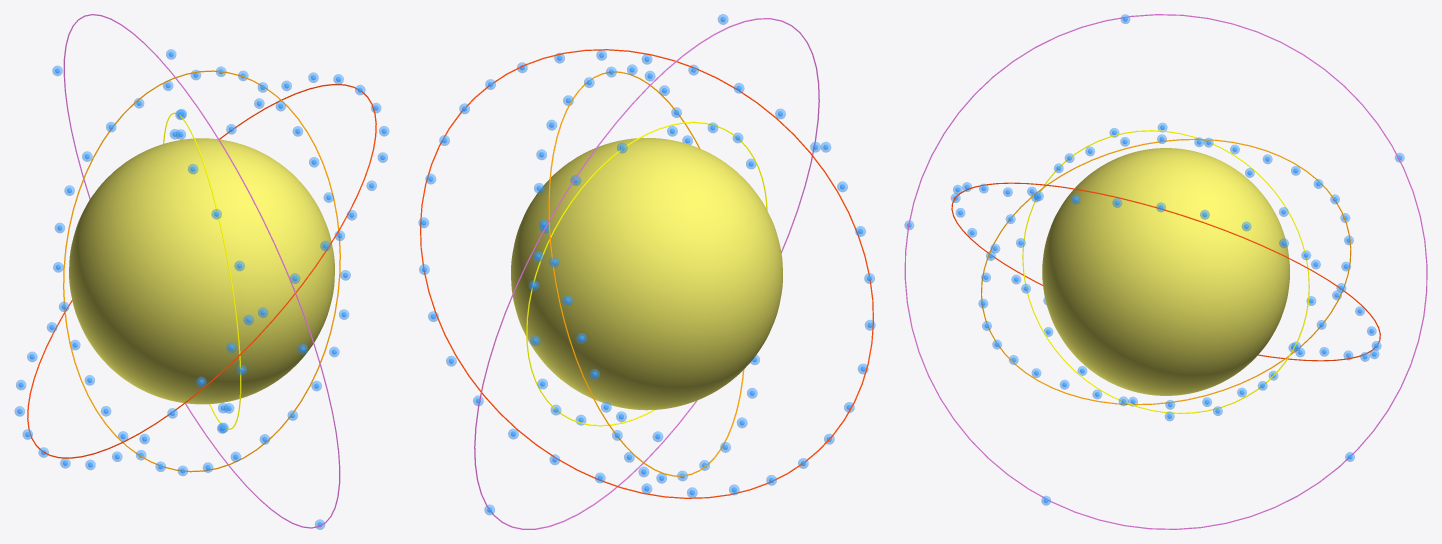
The picture shows the model from 3 angles, left to right: view 1: azimuth 30°, elevation 25°; view 2: azimuth 150°, elevation 25°; view 3: azimuth 270°, elevation 25°; orthographic projection. The views are drawn at different scales.
Parts seen in each view (by area): view 1: Bk, object 61, object 191, object 126, object 24; view 2: Bk, object 126, object 191, object 61, object 24; view 3: Bk, object 191, object 61, object 24, object 126.
Boxes of the visible parts, x1,y1,x2,y2 form: Bk: (69,138,334,404); object 61: (63,70,340,472); object 191: (63,14,340,528); object 126: (27,84,376,458); object 24: (163,112,241,429); Bk: (511,138,782,410); object 126: (420,49,873,498); object 191: (474,18,819,529); object 61: (548,71,744,476); object 24: (526,121,767,426); Bk: (1042,148,1289,395); object 191: (904,14,1427,529); object 61: (981,138,1351,405); object 24: (1022,130,1309,413); object 126: (951,182,1380,361).
Size of the model in its own units: 5.64 by 8.2 by 8.4.
